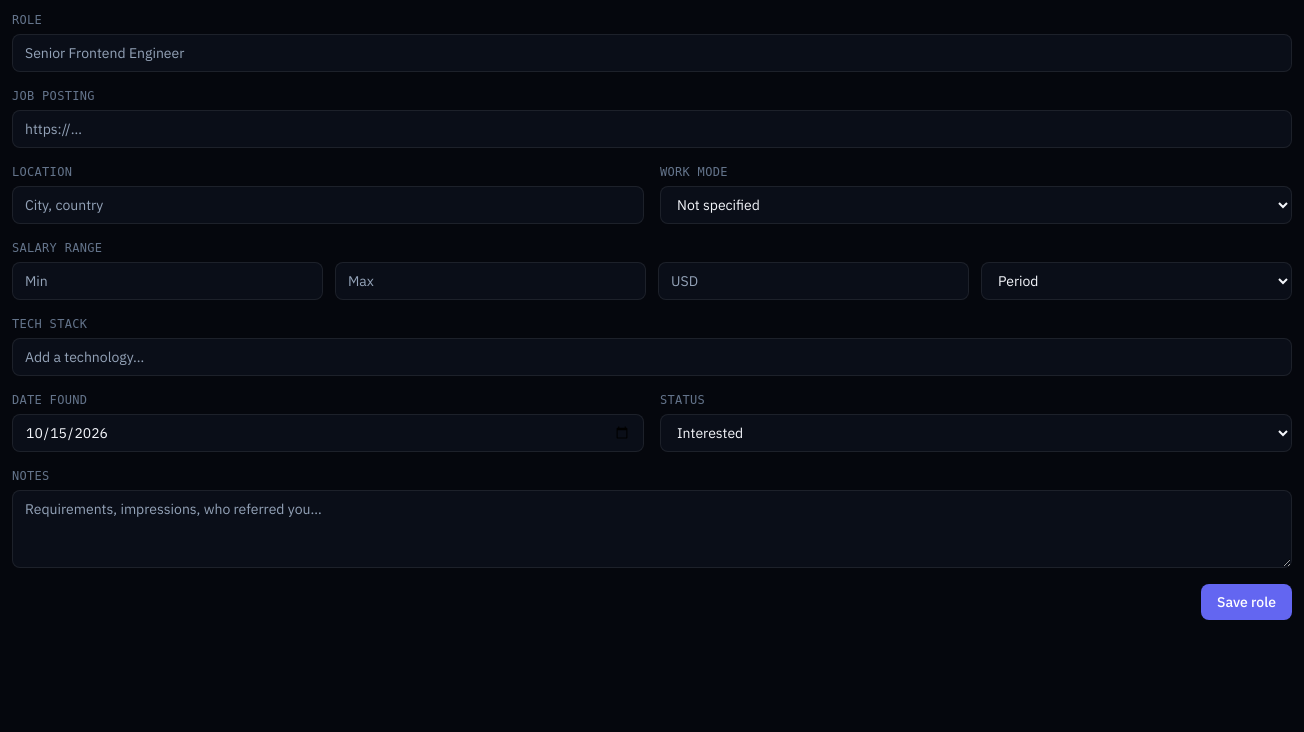
Test: ApplicationForm › shows an 'already tracked' notice on a 409
Type "r" into the field labelled "Role" at (652, 53), box [12,34,1292,72]
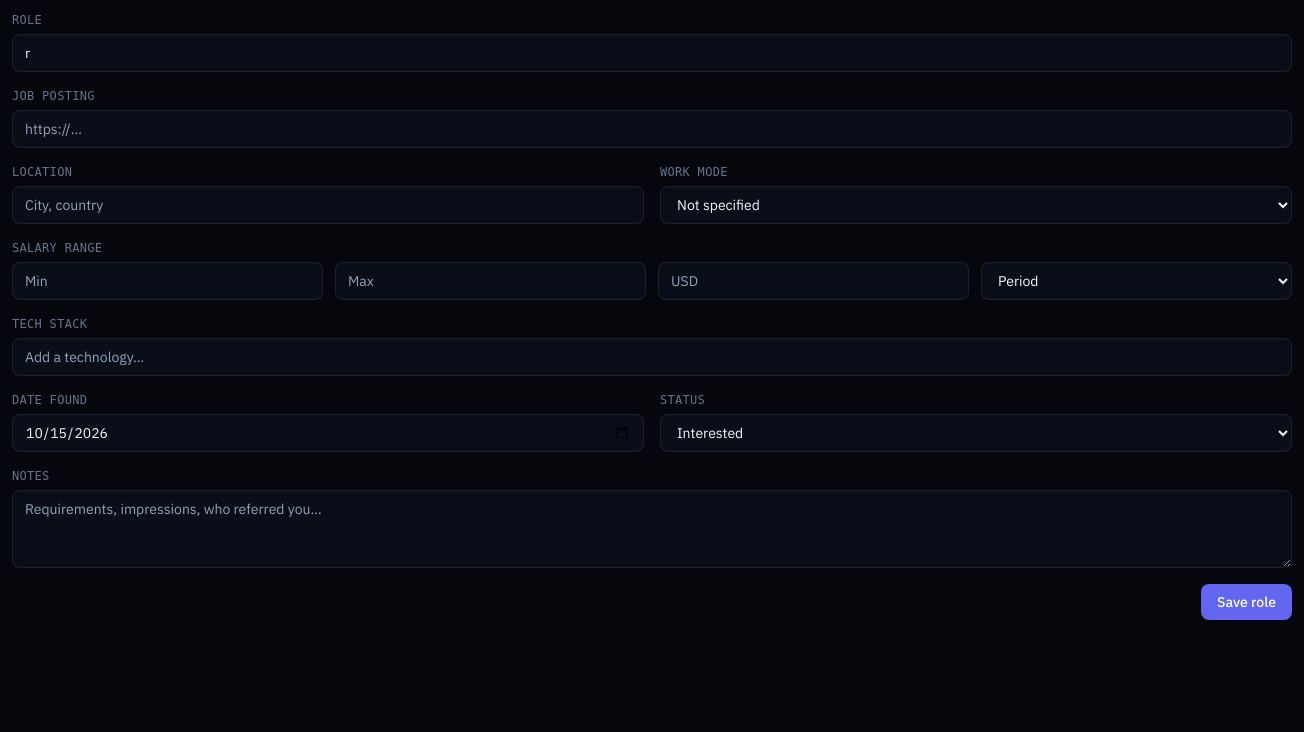
Type "https://jobs.example.com/1" into the field labelled "Job posting" at (652, 129), box [12,110,1292,148]
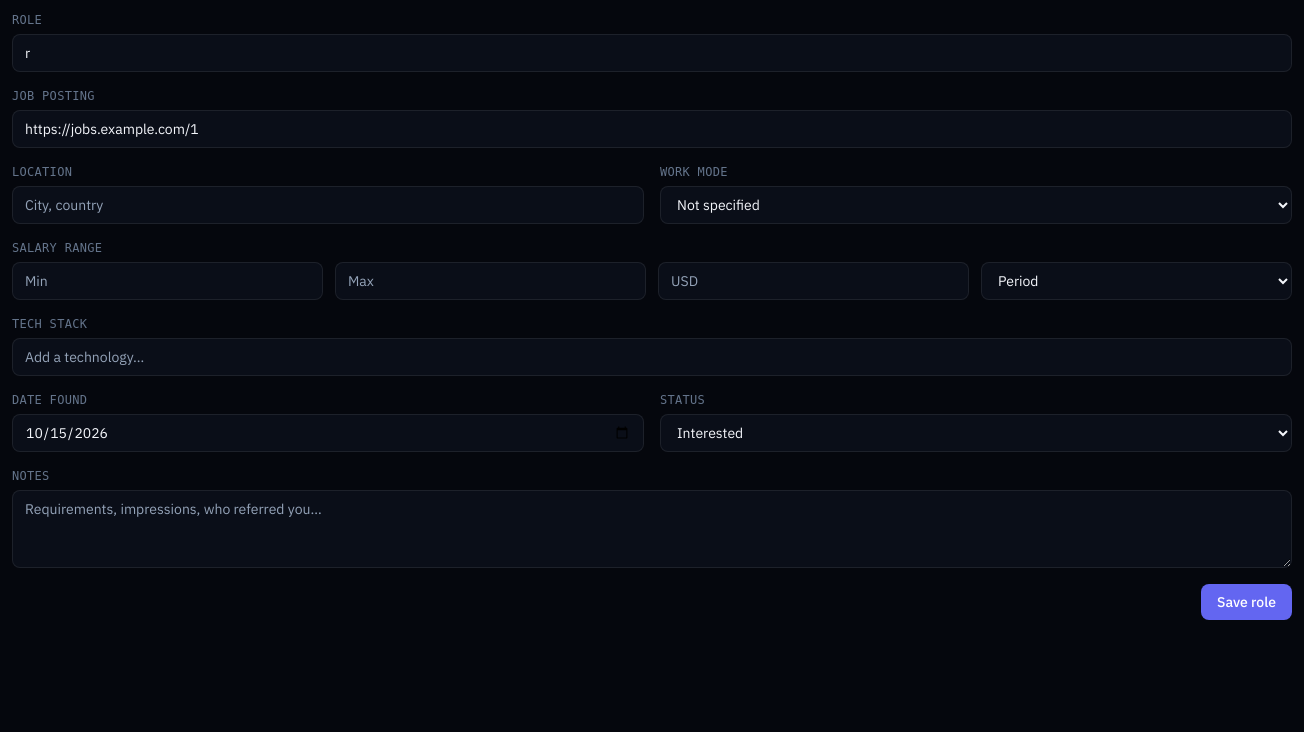
Click the button "Save role" at (1246, 602), box [1201,584,1292,620]
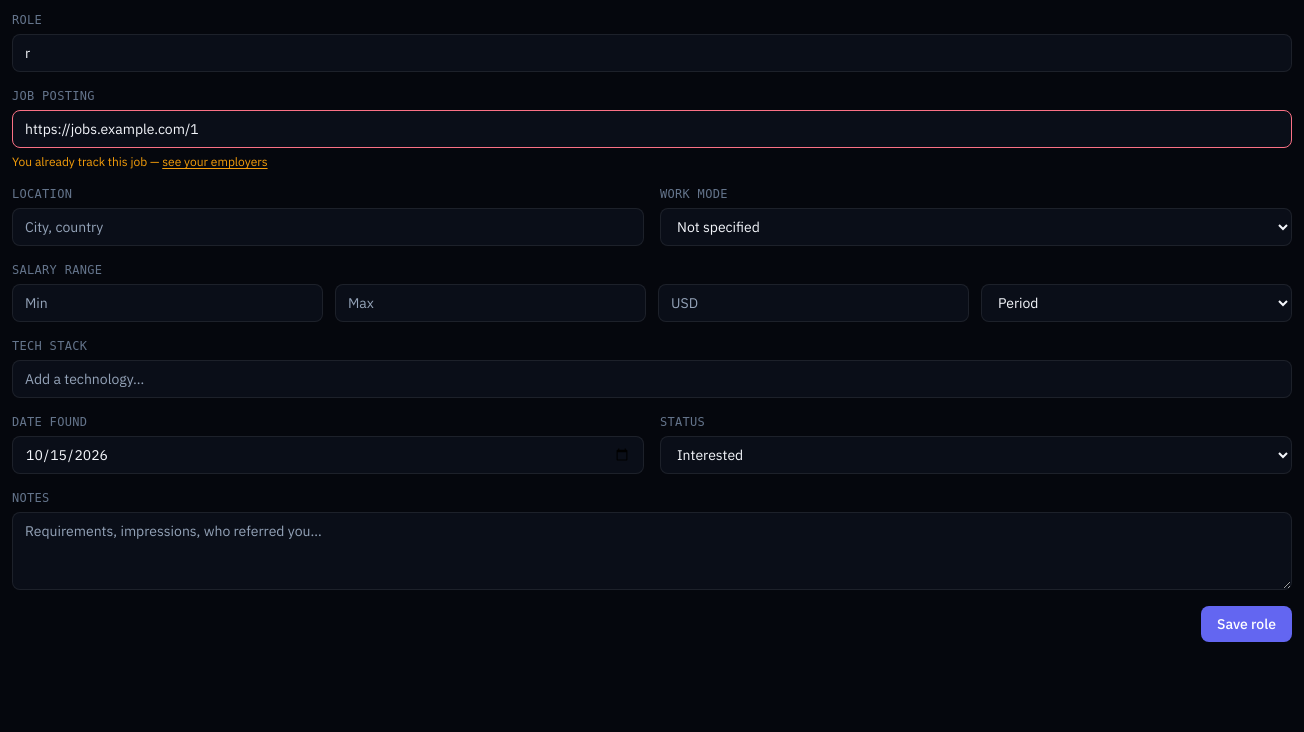
Check: the text "You already track this job — see your employers" is shown, box [12,154,268,169]
